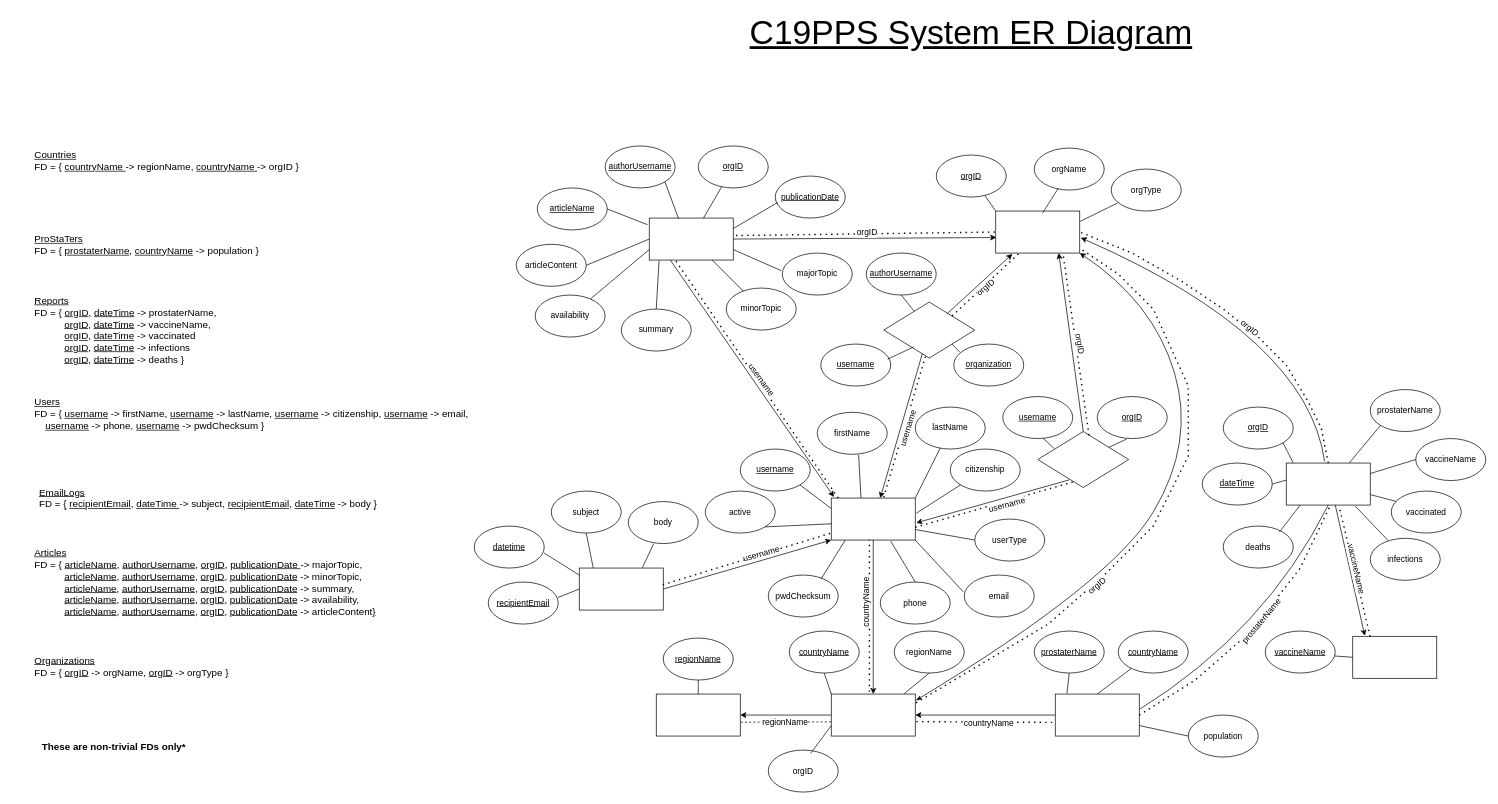
This 1498x804 diagram has some shape labels left out. Each missing label, with the centre of its shape:
"Articles" goes at (x=691, y=238).
"Countries" goes at (x=873, y=714).
"Emails Logs" goes at (x=621, y=588).
"Employees" goes at (x=1083, y=459).
"Organizations" goes at (x=1037, y=231).
"ProStaTer" goes at (x=1097, y=714).
"Regions" goes at (x=698, y=714).
"Reports" goes at (x=1328, y=483).
"Subscriptions" goes at (x=929, y=329).
"Users" goes at (x=873, y=518).
"Vaccines" goes at (x=1394, y=657).
